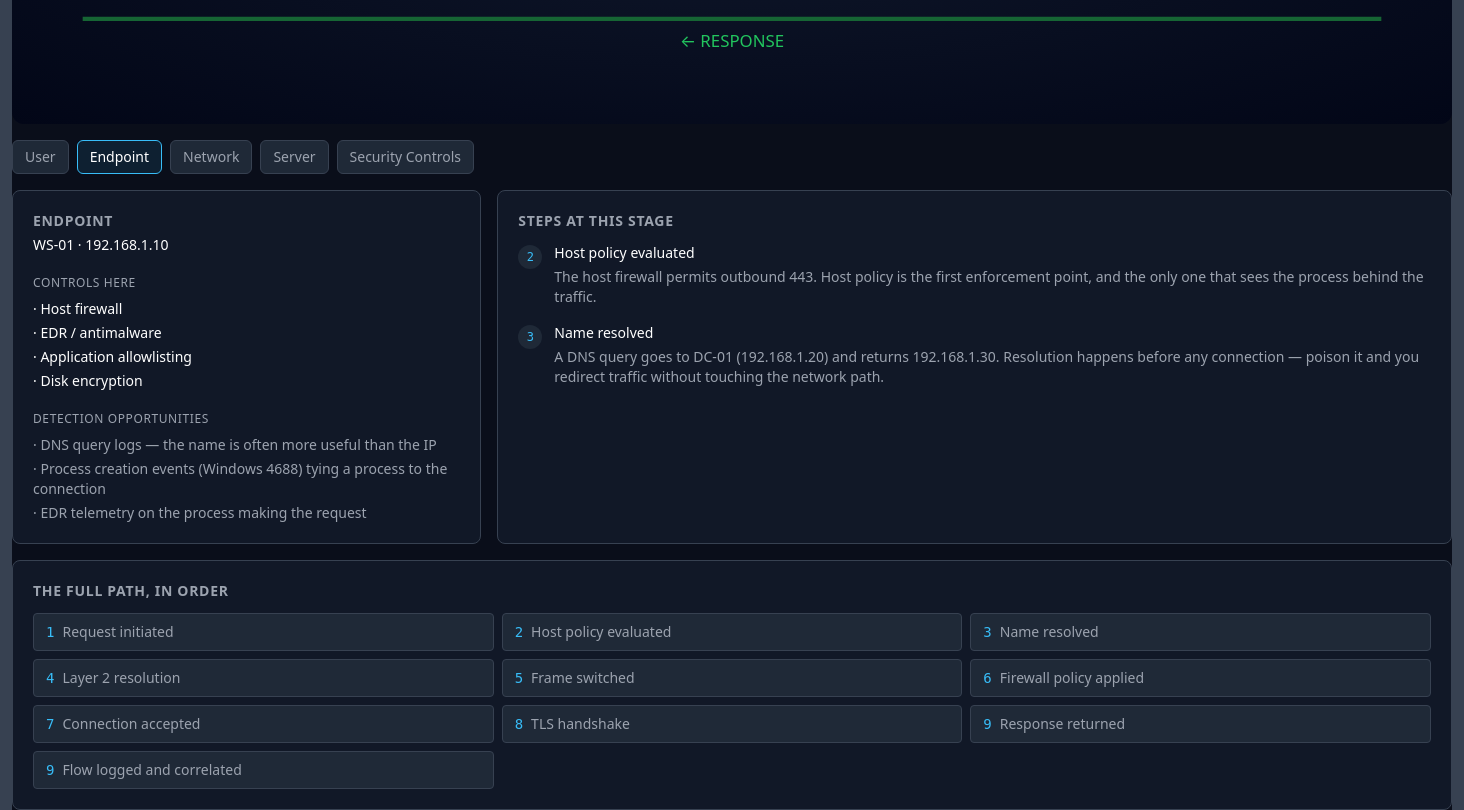
it: PathView › lists the whole path and lets a step select its stage
This screenshot has width=1464, height=810.
(page scrolled)
Step 1. Click the button "6Firewall policy applied" → (1072, 678), box x1=970 y1=659 x2=1431 y2=697
(page scrolled)
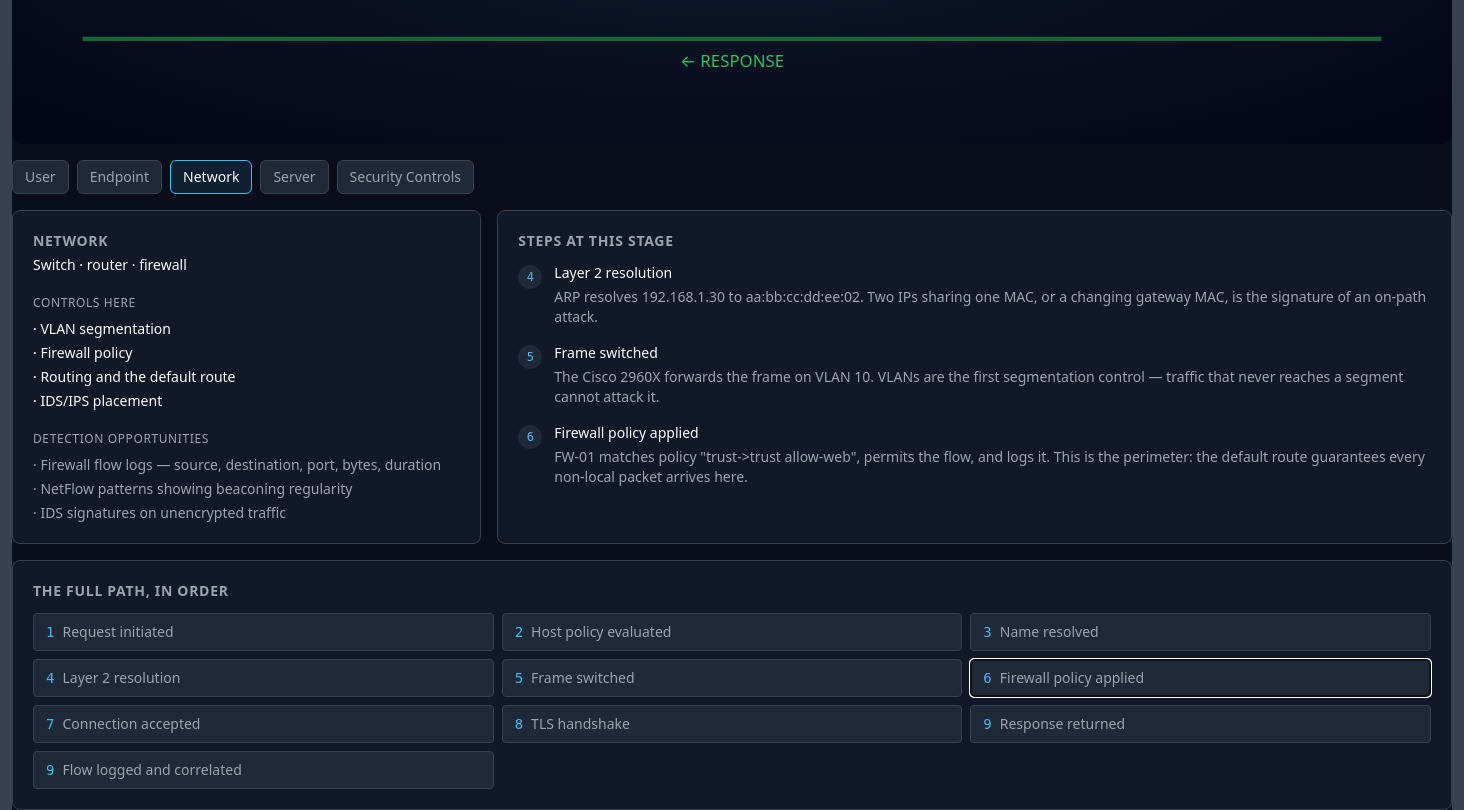
Expected: the text "Frame switched" is shown, x1=554 y1=343 x2=658 y2=362
Expected: the text "Firewall policy applied" is shown, x1=554 y1=423 x2=699 y2=442
Expected: the text "Layer 2 resolution" is shown, x1=554 y1=263 x2=672 y2=282
